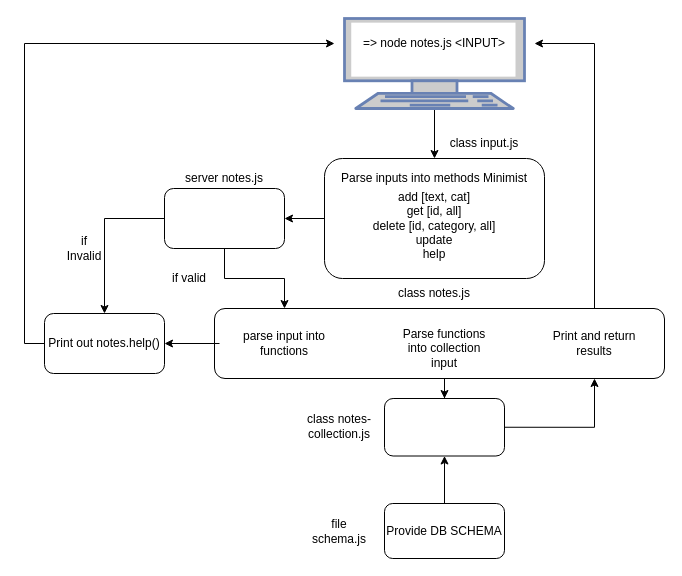
Some shapes in this 682 by 576 pixel diagram are drawn without their labels. The shapes that lost their labels are listed below. From the top down, each one's centre as x and y in pixels, then its label:
At (x=224, y=218): "require(mongoose...) mongoose.connect => RUN APP".
At (x=444, y=427): "Apply input and return".
